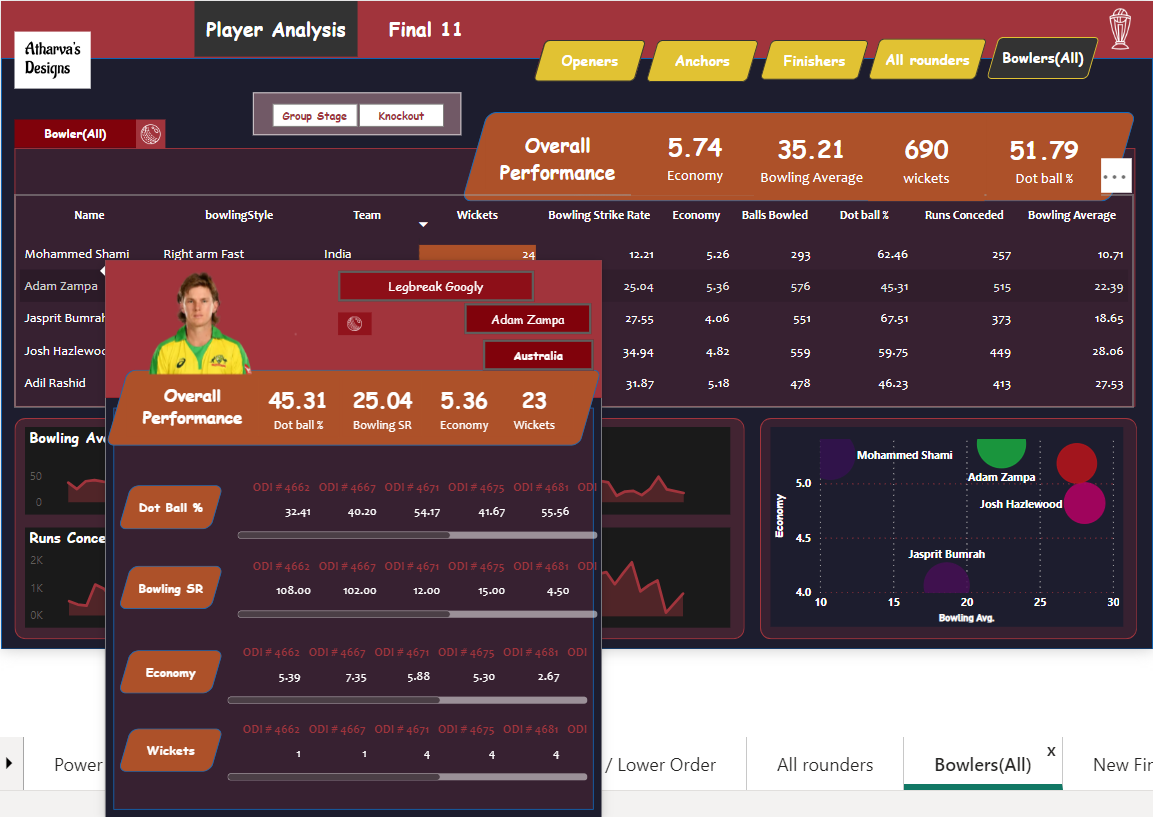

The page's visual inventory and layout, read from the dashboard file:
{"tool":"powerbi","page":{"name":"Bowlers(All)","canvas":[1280,720],"ordinal":4},"visuals":[{"type":"shape","box":[0,63.3,1279.9,657.2],"z":0},{"type":"shape","box":[842.7,463.1,419,245.7],"z":1000},{"type":"shape","box":[14.4,163.9,1245.4,287.6],"z":2000},{"type":"slicer","fields":{"Values":["dim_matchSummary.Stage"]},"box":[280.4,102.4,231.5,47.3],"z":3000},{"type":"shape","box":[511.9,122.9,749.7,99.2],"z":4000},{"type":"tableEx","fields":{"Values":["dim_players.player_name","dim_players.bowlingStyle","dim_players.team_name","Key_measures.wickets","Key_measures.Bowling Strike Rate","Key_measures.Economy","Key_measures.balls Bowled","Key_measures.Dot ball %","Key_measures.Runs Conceded","Key_measures.Bowling Average"]},"box":[14.2,215.8,1244.3,236.3],"z":5000},{"type":"textbox","box":[14.4,132.3,135.2,31.6],"z":6000},{"type":"card","fields":{"Values":["Key_measures.Economy"]},"box":[699.3,124.4,141.8,91.4],"z":7000},{"type":"card","fields":{"Values":["Key_measures.Bowling Average"]},"box":[836.4,124.4,127.6,96.1],"z":8000},{"type":"card","fields":{"Values":["Key_measures.wickets"]},"box":[964,124.4,129.2,97.7],"z":9000},{"type":"card","fields":{"Values":["Key_measures.Dot ball %"]},"box":[1094.7,126,127.6,94.5],"z":10000},{"type":"shape","box":[14.2,463.1,811.2,245.7],"z":11000},{"type":"shape","box":[591.1,43.1,125.1,44.6],"z":12000},{"type":"image","box":[14.4,23,84.8,84.8],"z":13000},{"type":"image","box":[1206.6,0,73.3,61.8],"z":14000},{"type":"actionButton","title":"Openers","box":[591.1,43.1,125.1,46],"z":15000},{"type":"actionButton","box":[409.9,0,125.1,61.8],"z":16000},{"type":"actionButton","box":[215.7,0,181.2,61.8],"z":17000},{"type":"textbox","box":[538.7,137,160.7,72.5],"z":18000},{"type":"actionButton","title":"Openers","box":[717,42.5,125.6,46.6],"z":19000},{"type":"scatterChart","fields":{"X":["Key_measures.Bowling Average"],"Category":["dim_players.player_name"],"Series":["dim_players.player_name"],"Y":["Key_measures.Economy"],"Size":["Key_measures.wickets"]},"box":[855.3,474.1,392.2,222.1],"z":20000},{"type":"image","box":[149.9,131.6,32.4,32.4],"z":21000},{"type":"actionButton","title":"Openers","box":[842.7,42.5,121.3,44.1],"z":22000},{"type":"stackedAreaChart","title":"Bowling Average by Date","fields":{"Category":["dim_matchSummary.matchDate.Variation.Date Hierarchy.Day"],"Y":["Key_measures.Bowling Average"]},"box":[26.3,473.9,392.9,97.2],"z":23000},{"type":"stackedAreaChart","title":"Wickets by Date","fields":{"Category":["dim_matchSummary.matchDate.Variation.Date Hierarchy.Day"],"Y":["Key_measures.wickets"]},"box":[431.4,473.9,378.7,97.2],"z":24000},{"type":"stackedAreaChart","title":"Runs Conceded by Date","fields":{"Category":["dim_matchSummary.matchDate.Variation.Date Hierarchy.Day"],"Y":["Key_measures.Runs Conceded"]},"box":[26.3,585.3,392.9,111.4],"z":25000},{"type":"stackedAreaChart","title":"Economy by Date","fields":{"Category":["dim_matchSummary.matchDate.Variation.Date Hierarchy.Day"],"Y":["Key_measures.Economy"]},"box":[431.4,585.3,378.7,111.4],"z":26000},{"type":"actionButton","title":"Openers","box":[1095.7,40.5,125.6,46.6],"z":27000},{"type":"actionButton","title":"Openers","box":[964,41,132.3,45.7],"z":28000}]}

Visuals, with their boxes on the page's 1280x720 design canvas (x1, y1, x2, y2). These are canvas units, not pixel positions in the 1153x817 screenshot, which may show the page scaled, cropped or inside an application window:
shape: detection(0, 63, 1280, 720)
shape: detection(843, 463, 1262, 709)
shape: detection(14, 164, 1260, 452)
slicer - dim_matchSummary.Stage: detection(280, 102, 512, 150)
shape: detection(512, 123, 1262, 222)
tableEx - dim_players.player_name x dim_players.bowlingStyle: detection(14, 216, 1258, 452)
textbox: detection(14, 132, 150, 164)
card - Key_measures.Economy: detection(699, 124, 841, 216)
card - Key_measures.Bowling Average: detection(836, 124, 964, 220)
card - Key_measures.wickets: detection(964, 124, 1093, 222)
card - Key_measures.Dot ball %: detection(1095, 126, 1222, 220)
shape: detection(14, 463, 825, 709)
shape: detection(591, 43, 716, 88)
image: detection(14, 23, 99, 108)
image: detection(1207, 0, 1280, 62)
"Openers" actionButton: detection(591, 43, 716, 89)
actionButton: detection(410, 0, 535, 62)
actionButton: detection(216, 0, 397, 62)
textbox: detection(539, 137, 699, 210)
"Openers" actionButton: detection(717, 42, 843, 89)
scatterChart - Key_measures.Bowling Average x dim_players.player_name: detection(855, 474, 1248, 696)
image: detection(150, 132, 182, 164)
"Openers" actionButton: detection(843, 42, 964, 87)
"Bowling Average by Date" stackedAreaChart: detection(26, 474, 419, 571)
"Wickets by Date" stackedAreaChart: detection(431, 474, 810, 571)
"Runs Conceded by Date" stackedAreaChart: detection(26, 585, 419, 697)
"Economy by Date" stackedAreaChart: detection(431, 585, 810, 697)
"Openers" actionButton: detection(1096, 40, 1221, 87)
"Openers" actionButton: detection(964, 41, 1096, 87)
